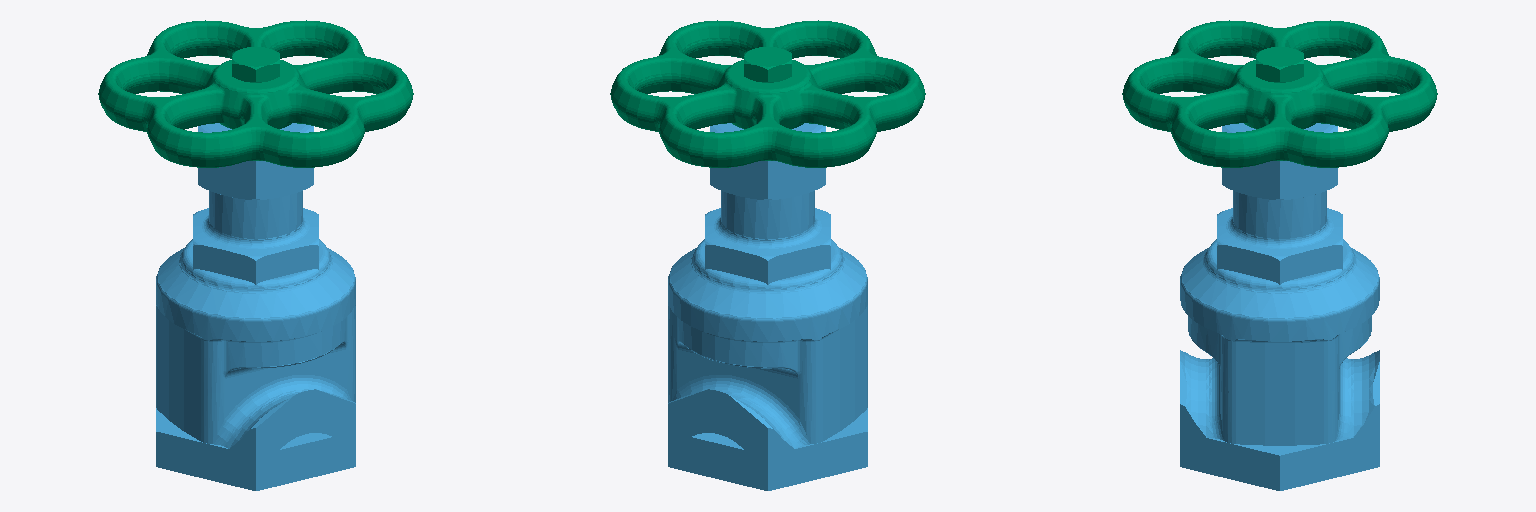
The robot description file, URDF, robot "High_Torque_Valve":
<?xml version='1.0' encoding='utf-8'?>
<robot name="High_Torque_Valve">
  <joint name="PrismaticJoint" type="prismatic">
    <origin xyz="0. 0. -0.0157571" rpy="0. 0. 0." />
    <parent link="World" />
    <child link="base" />
    <axis xyz="0. 0. 1." />
    <limit lower="-0.025" upper="0." effort="100.0" velocity="1.0" />
  </joint>
  <joint name="RevoluteJoint" type="continuous">
    <origin xyz="0. 0. 0." rpy="0. 0. 0." />
    <parent link="World" />
    <child link="nut" />
    <axis xyz="0. 0. 1." />
  </joint>
  <link name="World"><inertial><origin xyz="0.000000 0.000000 0.000000" rpy="0 0 0" /><mass value="0.0500" /><inertia ixx="1e-05" ixy="0" ixz="0" iyy="1e-05" iyz="0" izz="1e-05" /></inertial></link>
  <link name="base">
    <inertial><origin xyz="0.000000 0.000000 0.068000" rpy="0 0 0" /><mass value="0.9142" /><inertia ixx="0.00185248" ixy="0" ixz="0" iyy="0.0020003" iyz="0" izz="0.00103474" /></inertial><visual>
      <origin xyz="0. 0. 0.0157571" rpy="0. 0. 0." />
      <geometry>
        <mesh filename="meshes/Corpo1__2_.obj" scale="1. 1. 1." />
      </geometry>
    </visual>
    <collision>
      <origin xyz="0. 0. 0.0157571" rpy="0. 0. 0." />
      <geometry>
        <mesh filename="meshes/Corpo1__2_.obj" scale="1. 1. 1." />
      </geometry>
    </collision>
  </link>
  <link name="nut">
    <inertial><origin xyz="0.000000 0.000000 0.135400" rpy="0 0 0" /><mass value="1.1193" /><inertia ixx="0.00201322" ixy="0" ixz="0" iyy="0.00180004" iyz="0" izz="0.00247172" /></inertial><visual>
      <origin xyz="0. 0. -0.0157571" rpy="0. 0. 0." />
      <geometry>
        <mesh filename="meshes/Corpo1__1_.obj" scale="1. 1. 1." />
      </geometry>
    </visual>
    <collision>
      <origin xyz="0. 0. -0.0157571" rpy="0. 0. 0." />
      <geometry>
        <mesh filename="meshes/Corpo1__1_.obj" scale="1. 1. 1." />
      </geometry>
    </collision>
  </link>
</robot>

--- Facts derived from the render (not from the file) ---
The picture shows the robot from 3 angles, left to right: view 1: azimuth 30°, elevation 25°; view 2: azimuth 150°, elevation 25°; view 3: azimuth 270°, elevation 25°; orthographic projection.
Model High_Torque_Valve with 3 links and 2 joints (1 continuous, 1 prismatic), rooted at World, posed every joint at zero.
Links seen in each view (by area): view 1: base, nut; view 2: base, nut; view 3: base, nut.
Boxes of the visible links, box(x1,y1,x2,y2) form: base: box(156, 123, 355, 490); nut: box(98, 20, 413, 167); base: box(668, 123, 867, 490); nut: box(610, 20, 925, 167); base: box(1180, 123, 1379, 490); nut: box(1122, 20, 1437, 167).
Size in the robot's own frame: 0.11 by 0.12 by 0.162 metres.
Meshes: 2 distinct files referenced, 2 mesh visuals loaded (2 OBJ).
